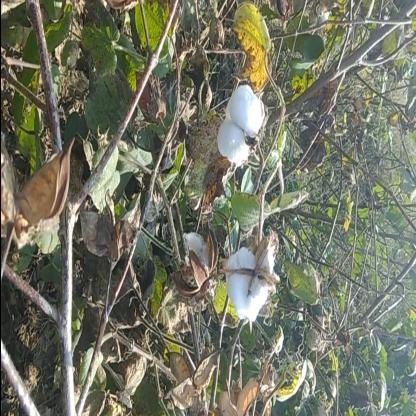cotton_ready: (208, 80, 273, 183), (219, 231, 280, 329)
